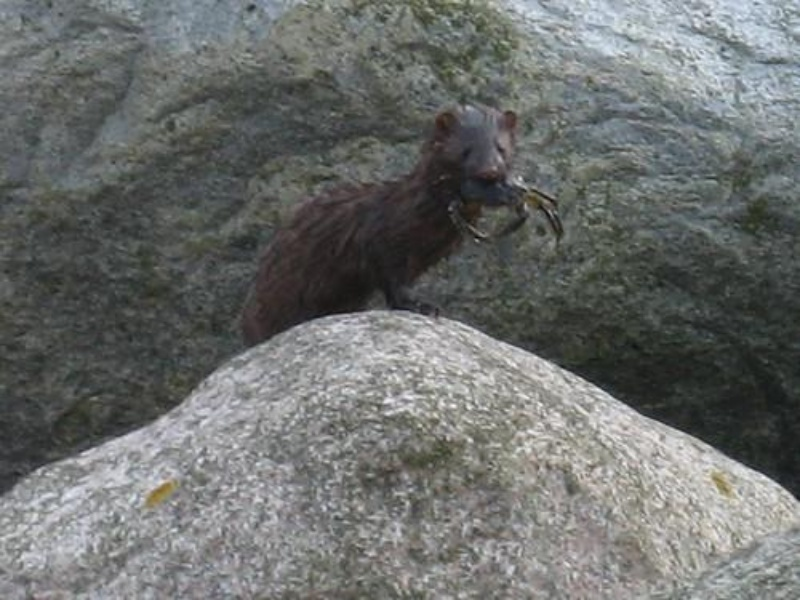minkish: (238, 98, 526, 351)
